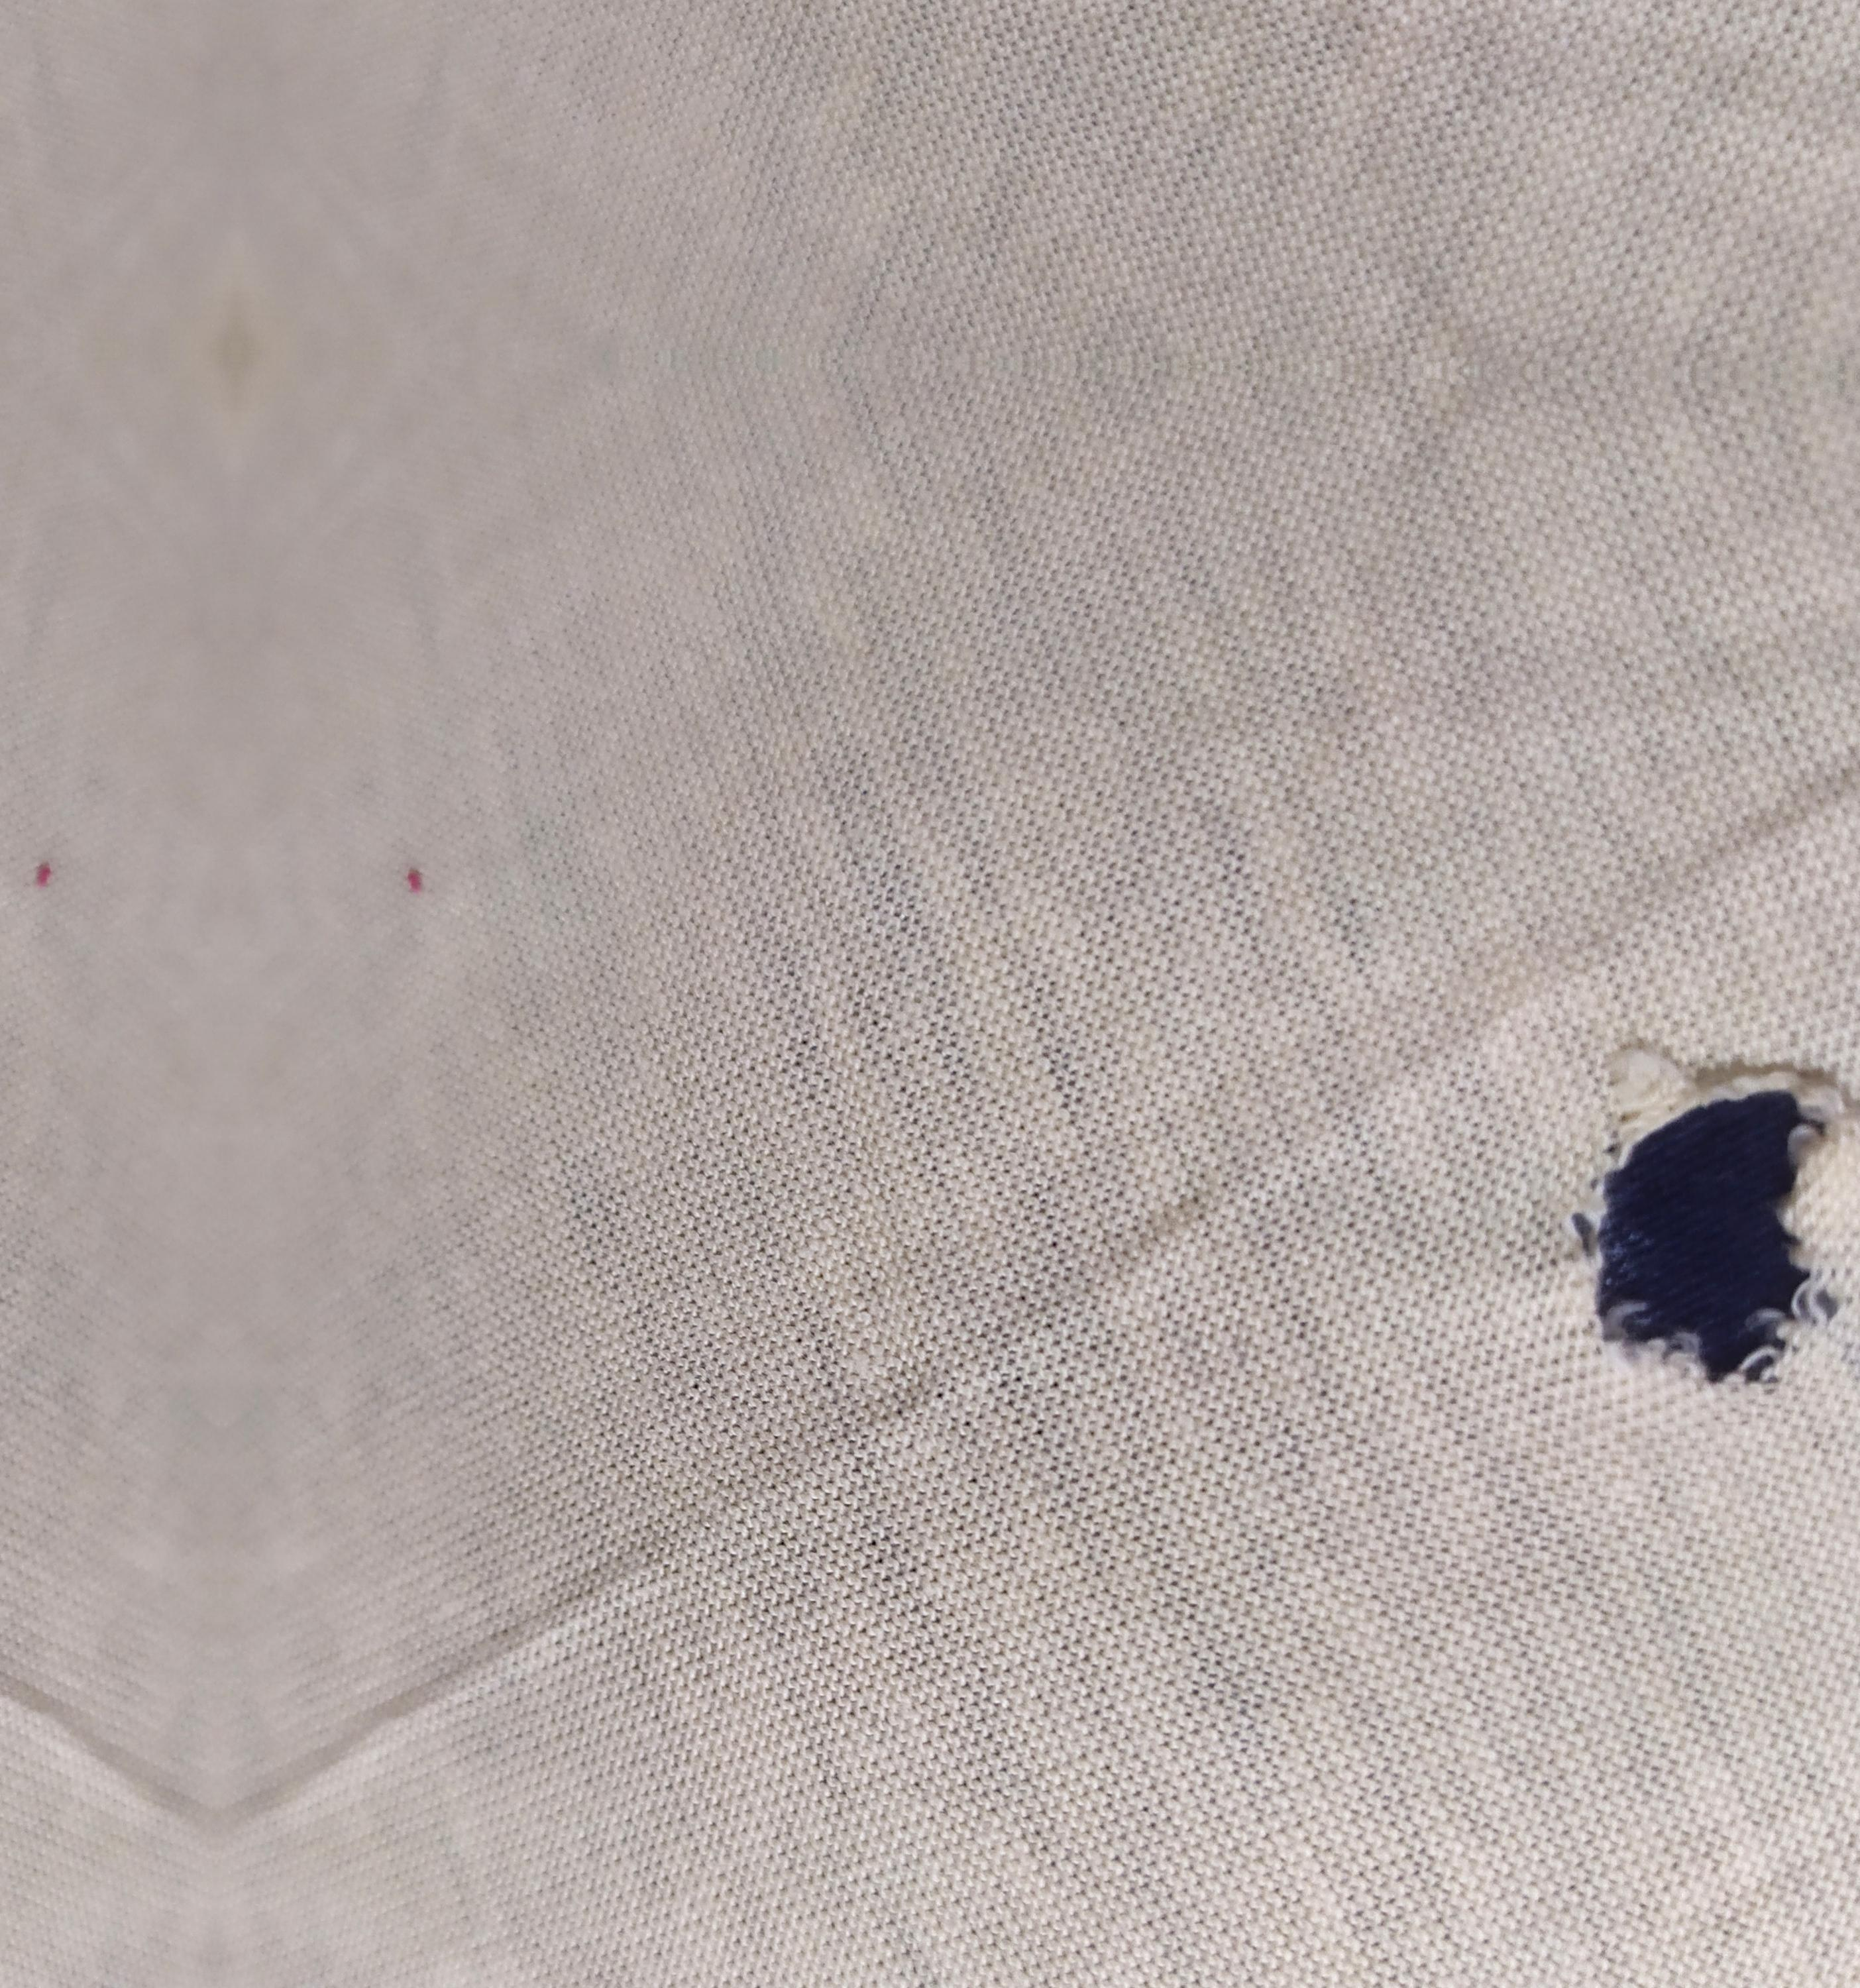hole: (1558, 1016, 1850, 1428)
